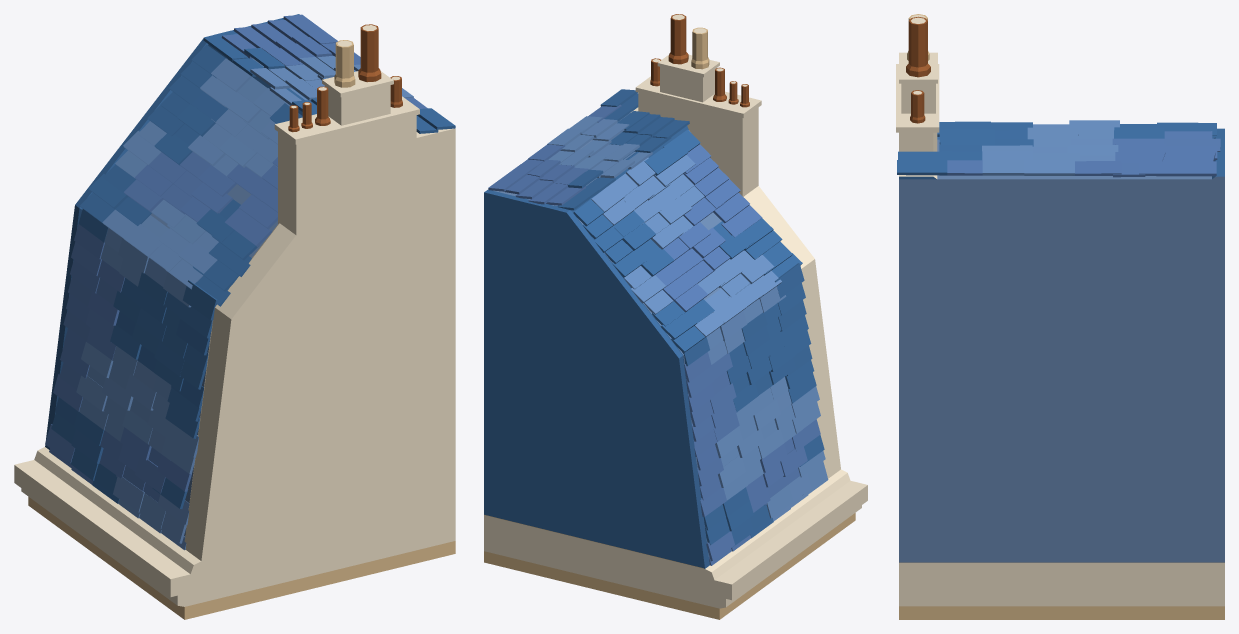
The model's file is RoofEdge_A_1.fbx.
3 views of the same model, side by side, from view 1: azimuth 30°, elevation 25°; view 2: azimuth 150°, elevation 25°; view 3: azimuth 270°, elevation 25° (orthographic). The views are drawn at different scales.
Visible parts, largest first — view 1: RoofEdge_A_1; view 2: RoofEdge_A_1; view 3: RoofEdge_A_1.
Part boxes in pixels (x1=…): RoofEdge_A_1: x1=14, y1=14, x2=455, y2=619; RoofEdge_A_1: x1=484, y1=14, x2=867, y2=619; RoofEdge_A_1: x1=896, y1=14, x2=1224, y2=619.
Size of the model in its own units: 210 by 202 by 379.
